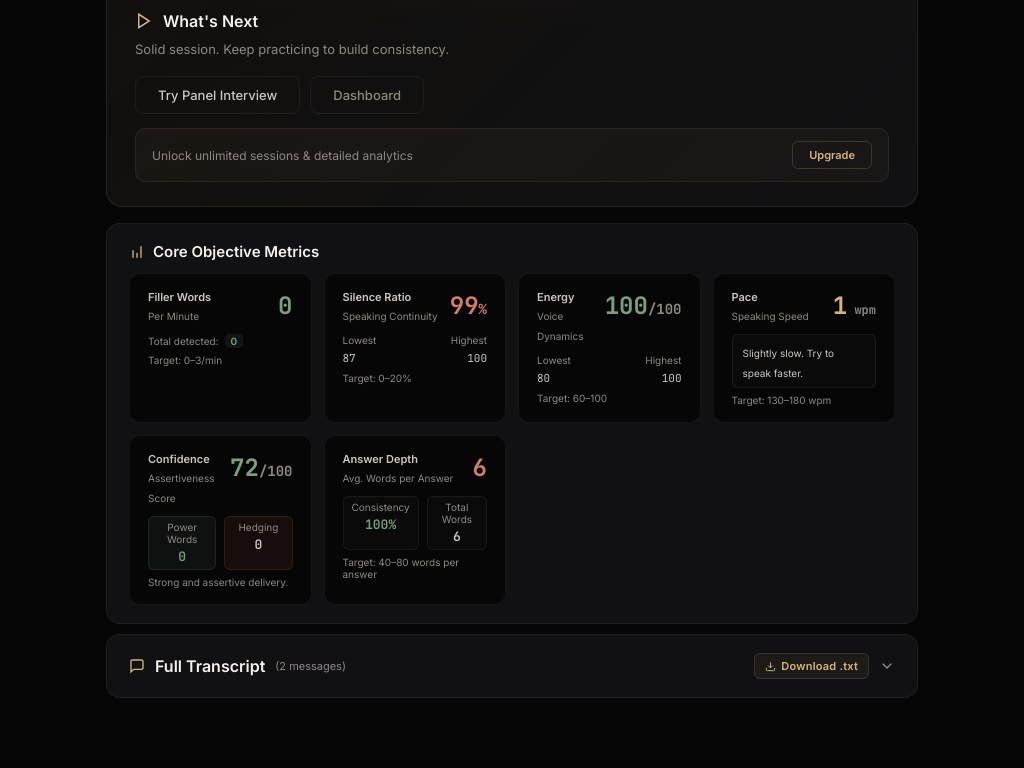
Test: SessionDetail › shows transcript when available
The width and height of the screenshot is (1024, 768).
(page scrolled)
Transcript is collapsed by default — expand it
Click the heading "Full Transcript (2 messages)": [238, 666] box x1=129 y1=656 x2=346 y2=676
(page scrolled)
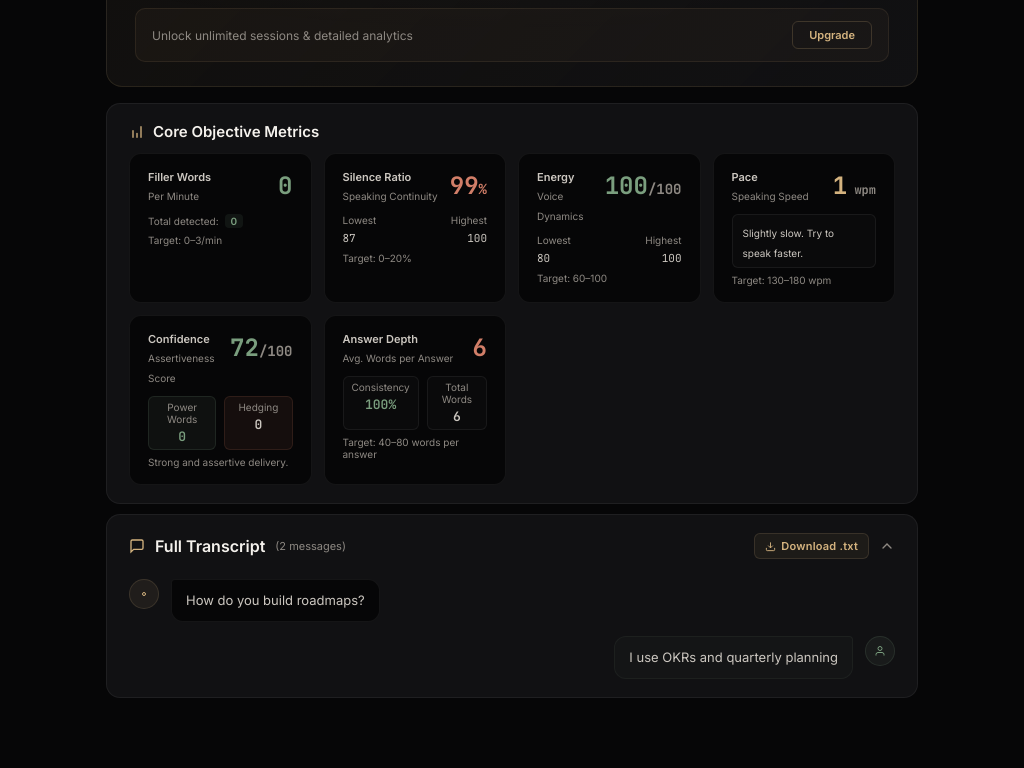
Expected: the text "How do you build roadmaps?" is shown, x1=171 y1=579 x2=380 y2=622
Expected: the text "I use OKRs and quarterly planning" is shown, x1=614 y1=636 x2=853 y2=679
